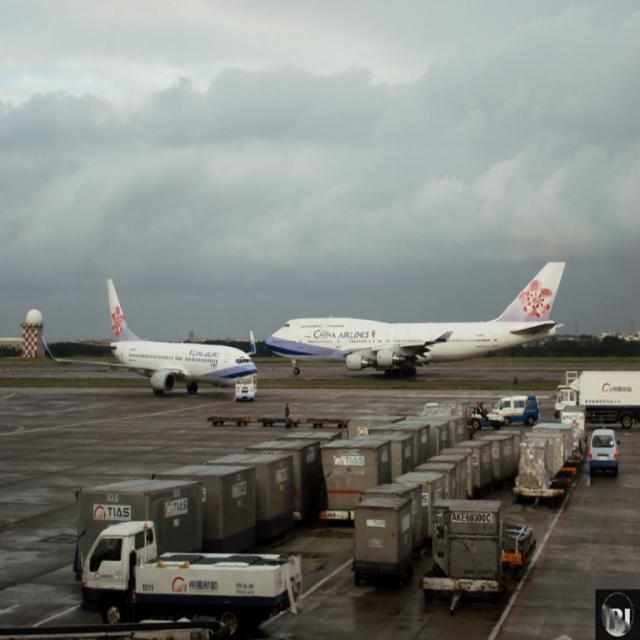Heavy Duty Truck: (80, 520, 308, 640), (555, 365, 639, 428), (490, 396, 540, 426), (589, 428, 619, 474)
